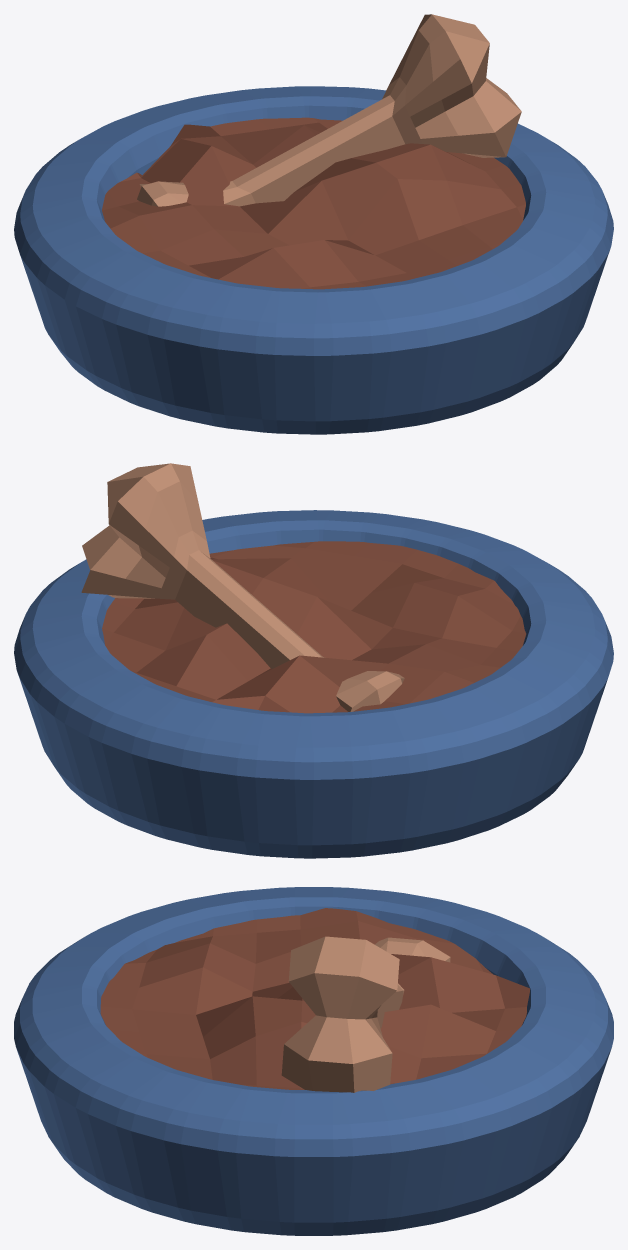
Rendered from dog_food_bowl_garden.fbx.
The picture shows the model from 3 angles, top to bottom: view 1: azimuth 30°, elevation 25°; view 2: azimuth 150°, elevation 25°; view 3: azimuth 270°, elevation 25°; orthographic projection.
Visible parts, largest first — view 1: dog_food_bowl_garden, Cube.091, Cube.045; view 2: dog_food_bowl_garden, Cube.091, Cube.045; view 3: dog_food_bowl_garden, Cube.091, Cube.045.
Part boxes in pixels (x1,y1,x2,y2): dog_food_bowl_garden: [14, 86, 613, 434]; Cube.091: [102, 117, 525, 289]; Cube.045: [137, 14, 521, 206]; dog_food_bowl_garden: [14, 510, 613, 858]; Cube.091: [102, 541, 526, 713]; Cube.045: [81, 463, 404, 711]; dog_food_bowl_garden: [14, 887, 613, 1235]; Cube.091: [100, 908, 529, 1089]; Cube.045: [281, 936, 450, 1092].
Size of the model in its own units: 39.3 by 18.79 by 39.3.
